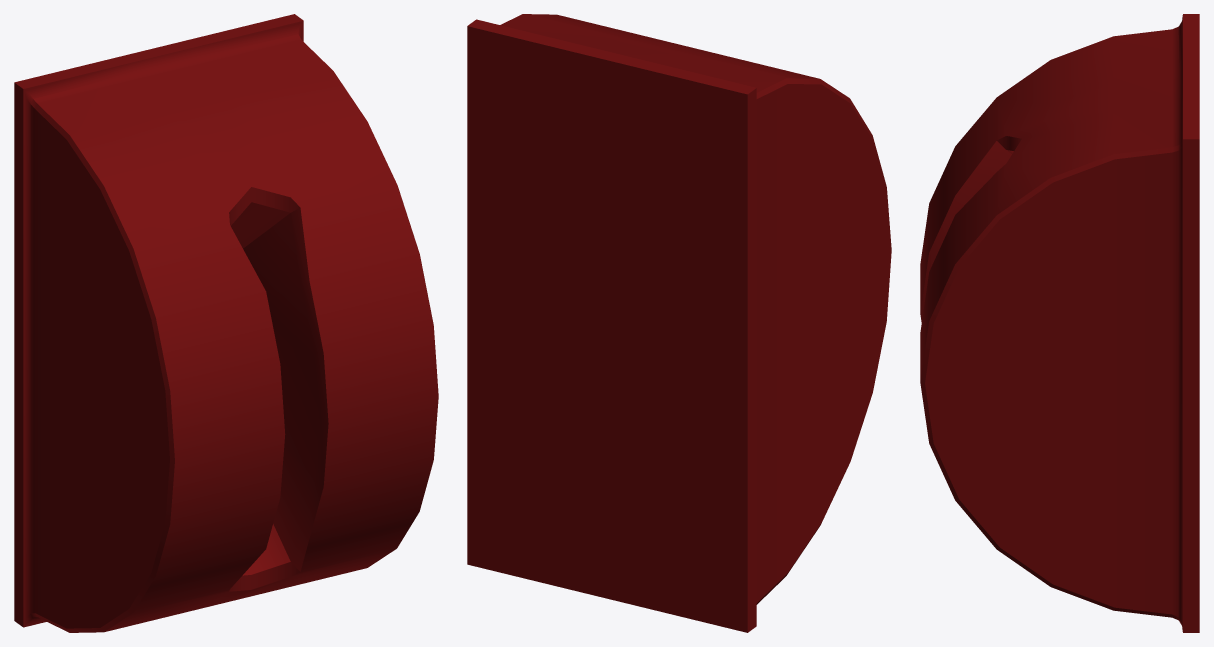
File: Lever body.fbx
3 renders of one model, left to right at view 1: azimuth 30°, elevation 25°; view 2: azimuth 150°, elevation 25°; view 3: azimuth 270°, elevation 25°, orthographic. The views are drawn at different scales.
Visible parts, largest first — view 1: Body; view 2: Body; view 3: Body.
Part boxes in pixels (x1,y1,x2,y2): Body: (14, 14, 438, 632); Body: (467, 14, 891, 632); Body: (920, 14, 1199, 632).
Bounding box in the file's own units: 6.03 × 11.07 × 5.68.
